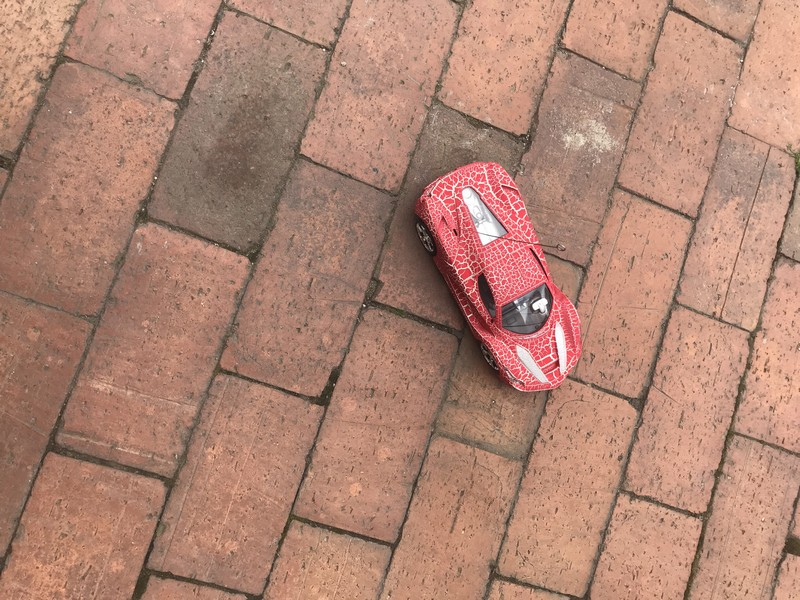RC: (408, 159, 587, 395)
